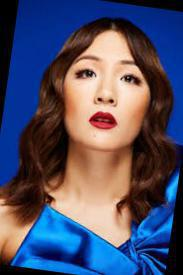Sober: (68, 37, 147, 140)
